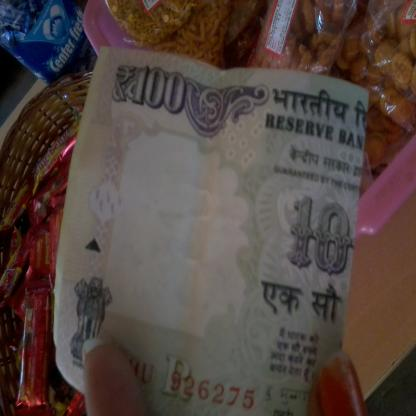Old100Front: (52, 44, 371, 416)
